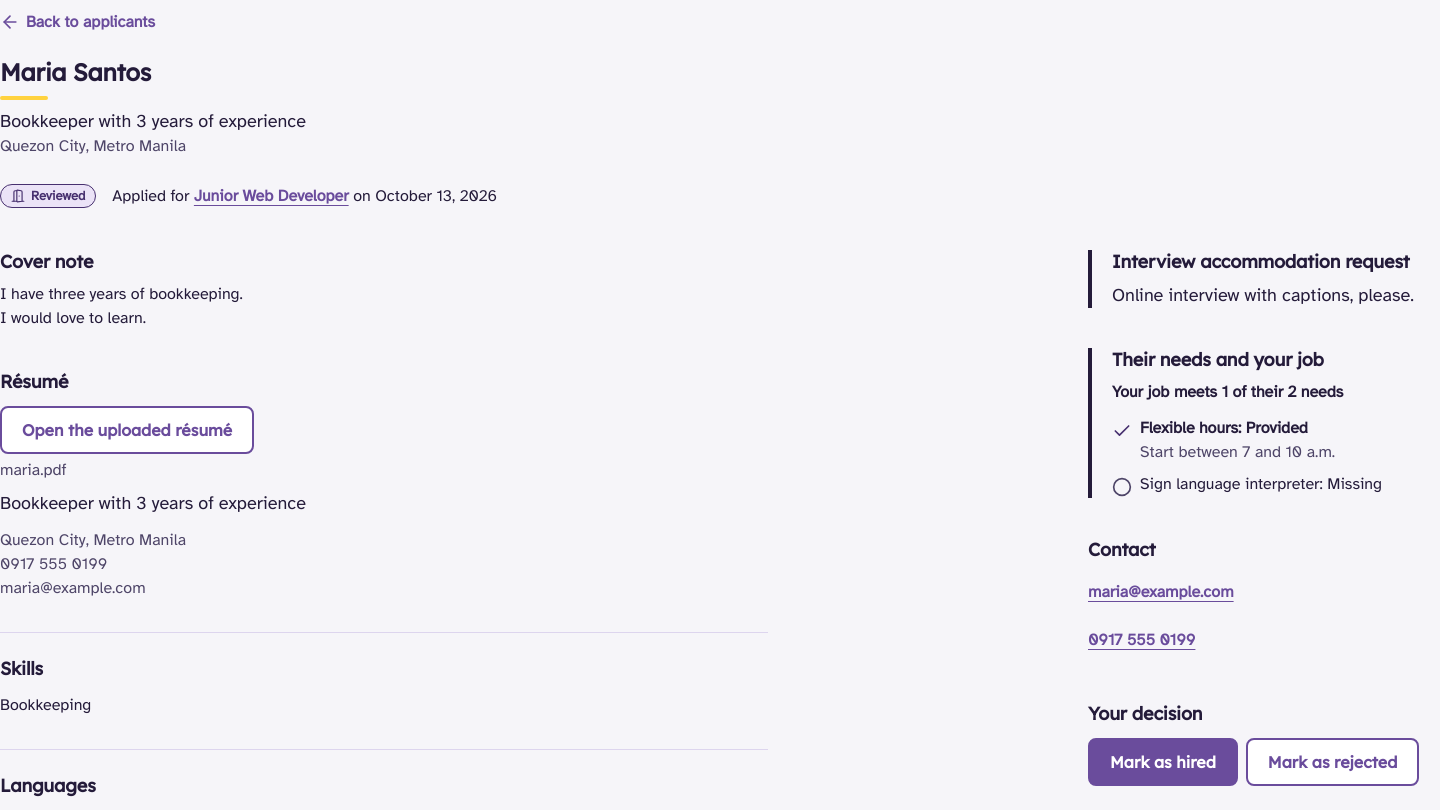
ApplicantPage › updates in place after a decision
Step 1. Click the button "Mark as rejected" → [1333, 762], box x1=1246 y1=738 x2=1419 y2=786
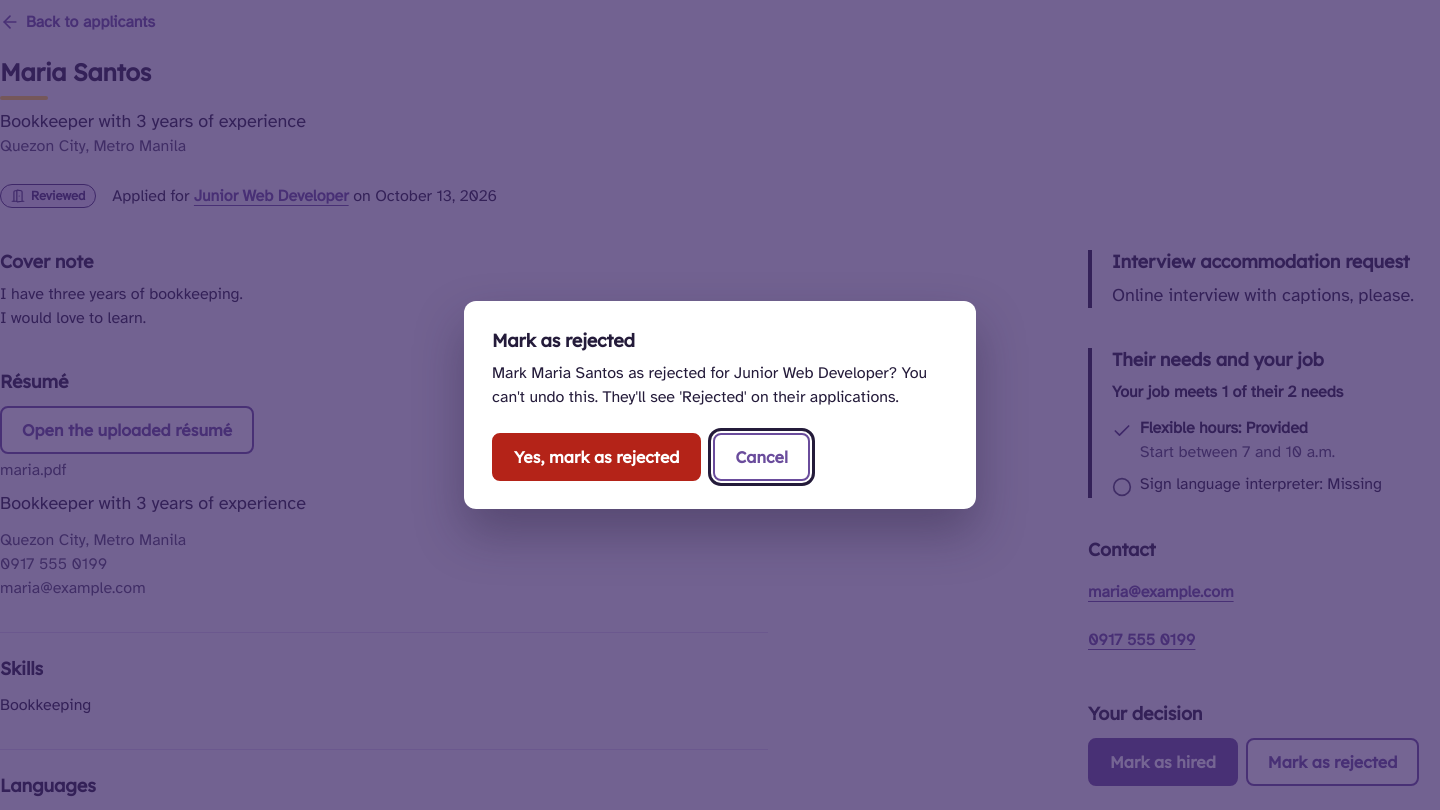
Step 2. Click the button "Yes, mark as rejected" → [597, 457], box x1=492 y1=433 x2=702 y2=481
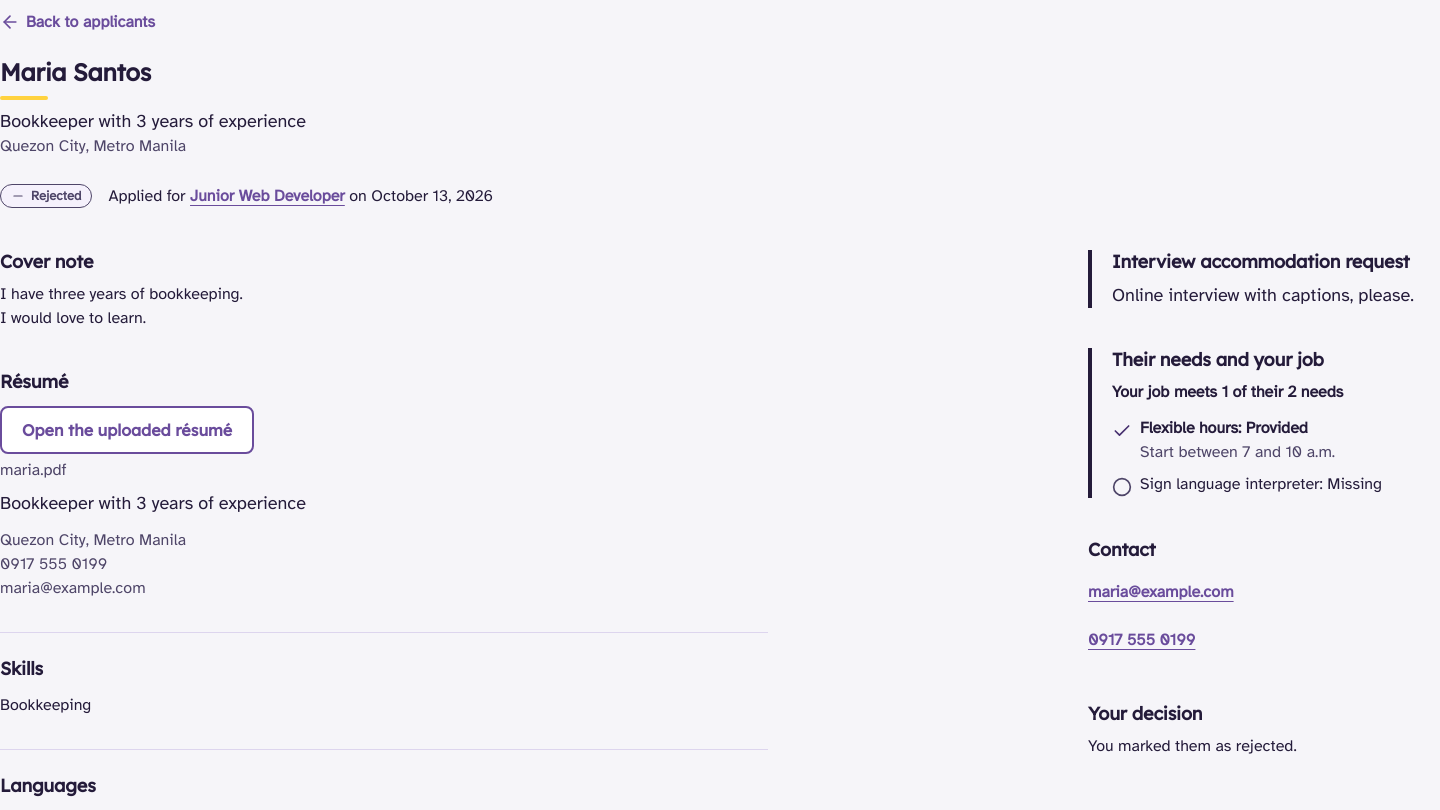
Now the text "You marked them as rejected." is shown, box x1=1088 y1=736 x2=1297 y2=756
